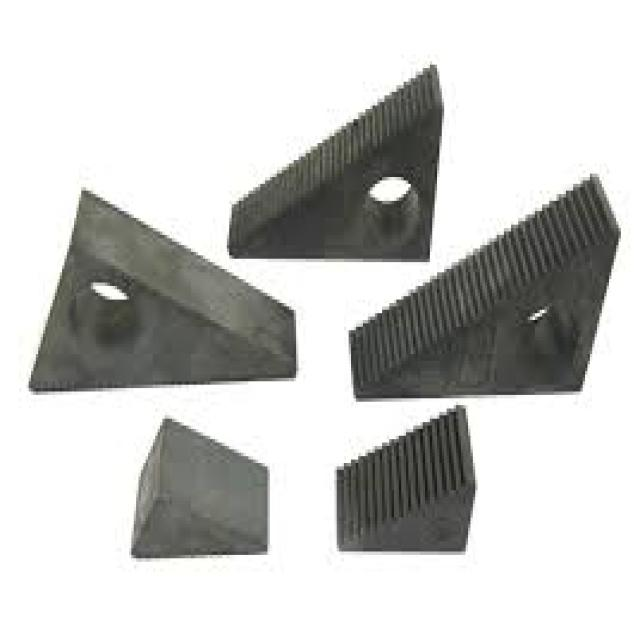Milling: (1, 181, 312, 406), (340, 195, 616, 420), (222, 65, 442, 268), (101, 413, 288, 568), (317, 415, 480, 569)
